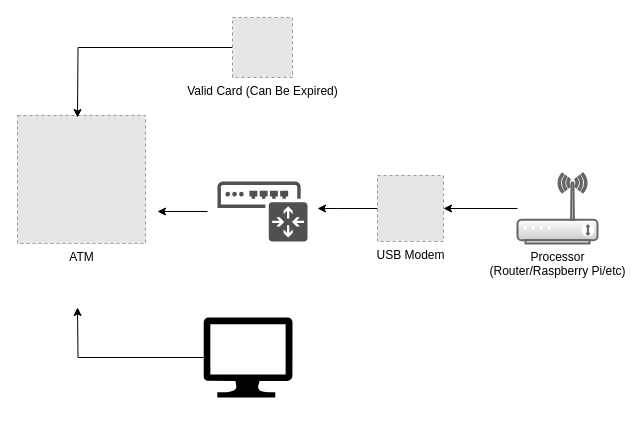
This 643x436 diagram has some shape labels left out. Grey dashed boxes stand in for pictures. Here are the shapes that lost their labels. From the top down, the box of each, then its label:
(217, 181, 307, 241): PBX
(203, 317, 292, 397): Web Configuration
